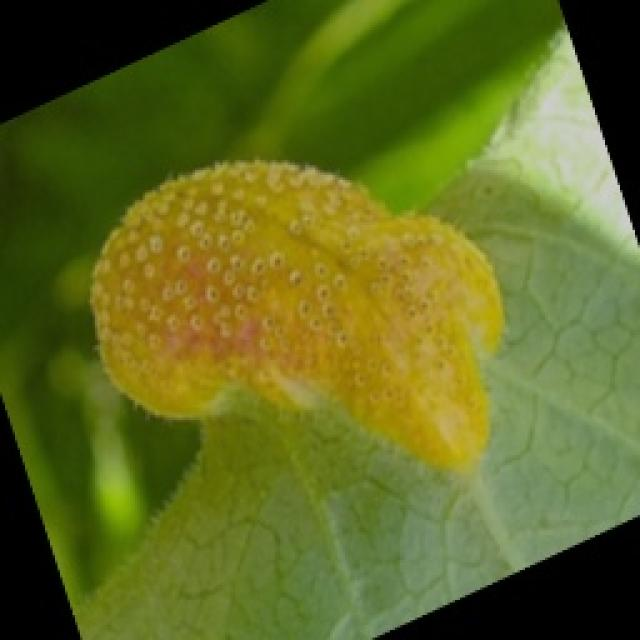Elderberry_rust: (87, 160, 564, 452)
